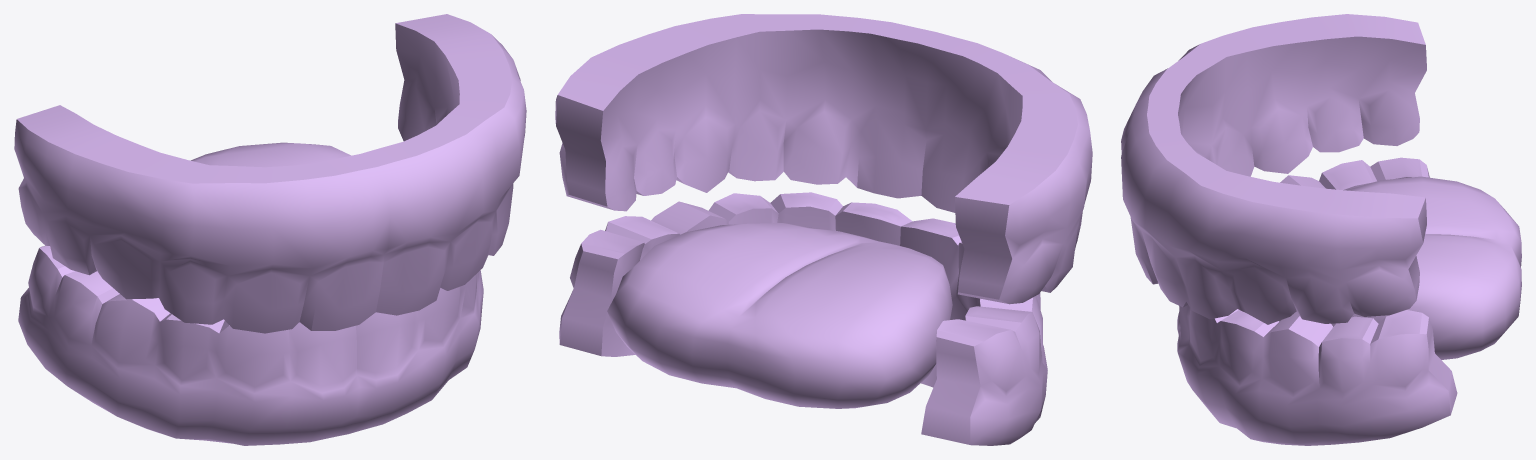
The model's file is Teeth and Tongue.fbx.
3 renders of one model, left to right at view 1: azimuth 30°, elevation 25°; view 2: azimuth 150°, elevation 25°; view 3: azimuth 270°, elevation 25°, orthographic. The views are drawn at different scales.
Parts seen in each view (by area): view 1: Top Row, Bottom Row, Tongue; view 2: Top Row, Tongue, Bottom Row; view 3: Top Row, Bottom Row, Tongue.
Boxes of the visible parts, <box> form: Top Row: <box>14,14,526,333</box>; Bottom Row: <box>18,245,483,445</box>; Tongue: <box>191,142,350,167</box>; Top Row: <box>555,14,1092,304</box>; Tongue: <box>607,223,952,408</box>; Bottom Row: <box>559,192,1047,445</box>; Top Row: <box>1121,14,1426,324</box>; Bottom Row: <box>1177,157,1457,445</box>; Tongue: <box>1279,176,1521,359</box>.
Size of the model in its own units: 18.77 by 11.43 by 15.12.
1 material, 1 textured.
